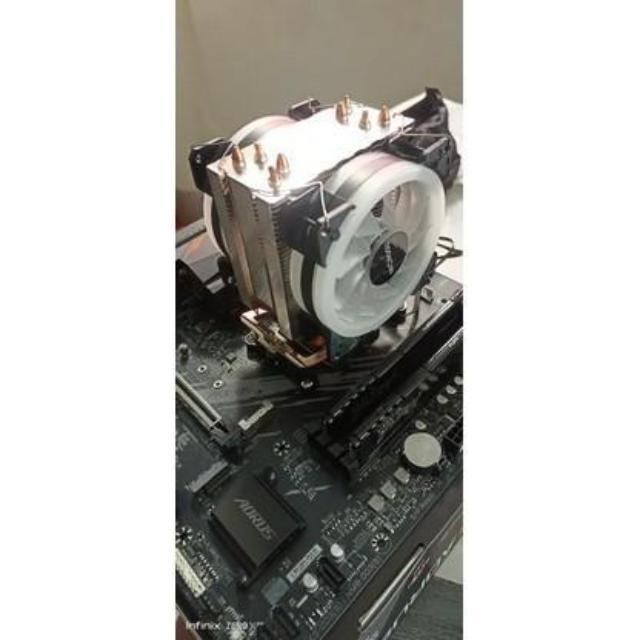CPU_Fan: (190, 93, 445, 370)
